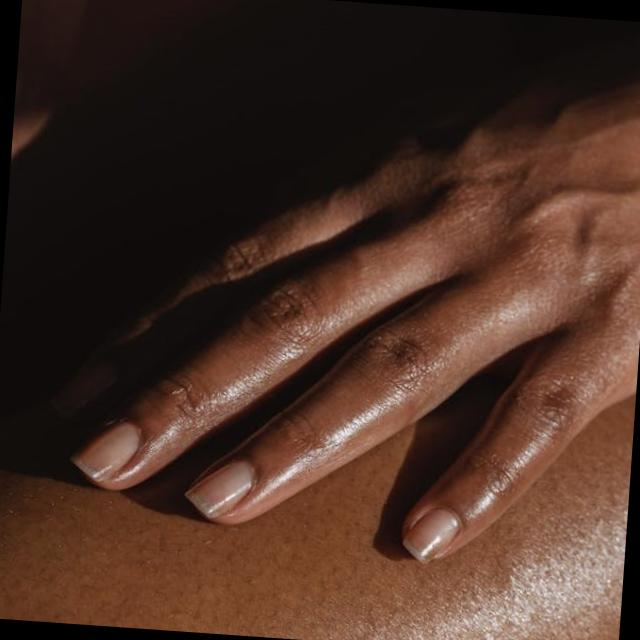Nail: (72, 422, 141, 484), (186, 461, 254, 520), (404, 509, 461, 564)
